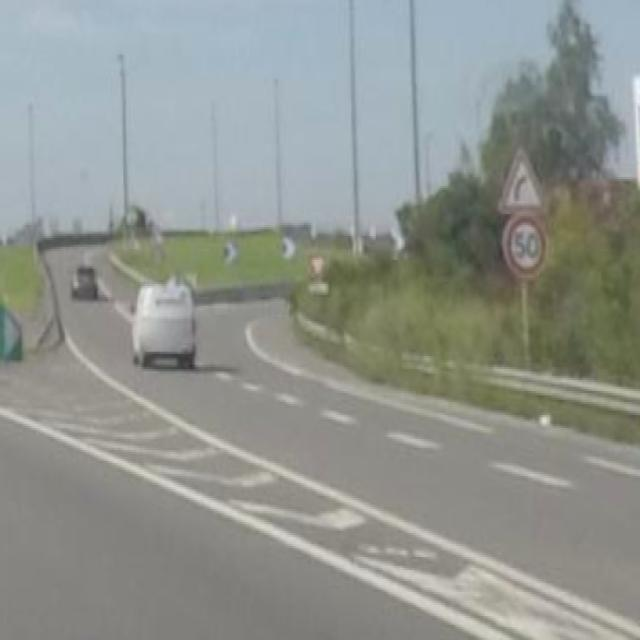speed_50: (506, 214, 546, 276)
